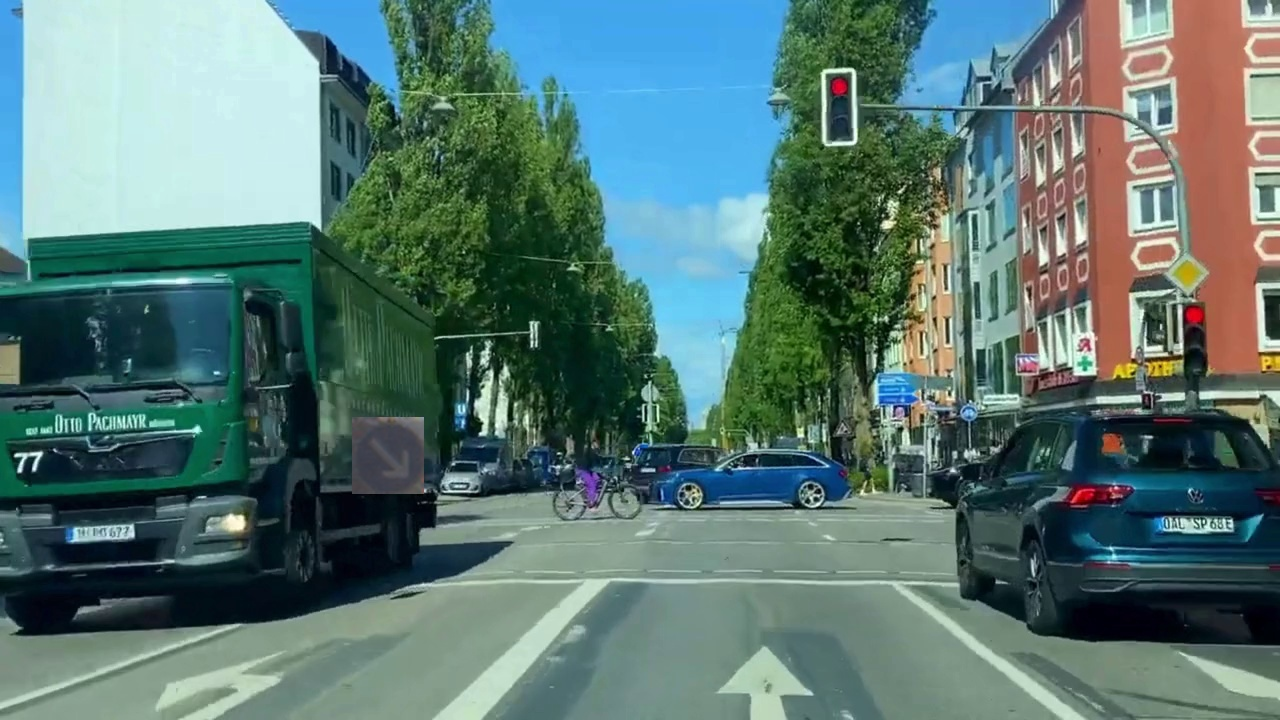Keep right: (352, 417, 424, 494)
